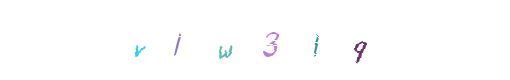3: (218, 0, 298, 80)
L: (208, 0, 288, 80), (221, 0, 301, 80)
Q: (320, 0, 400, 80)
V: (98, 0, 178, 80)
W: (214, 0, 294, 80)
